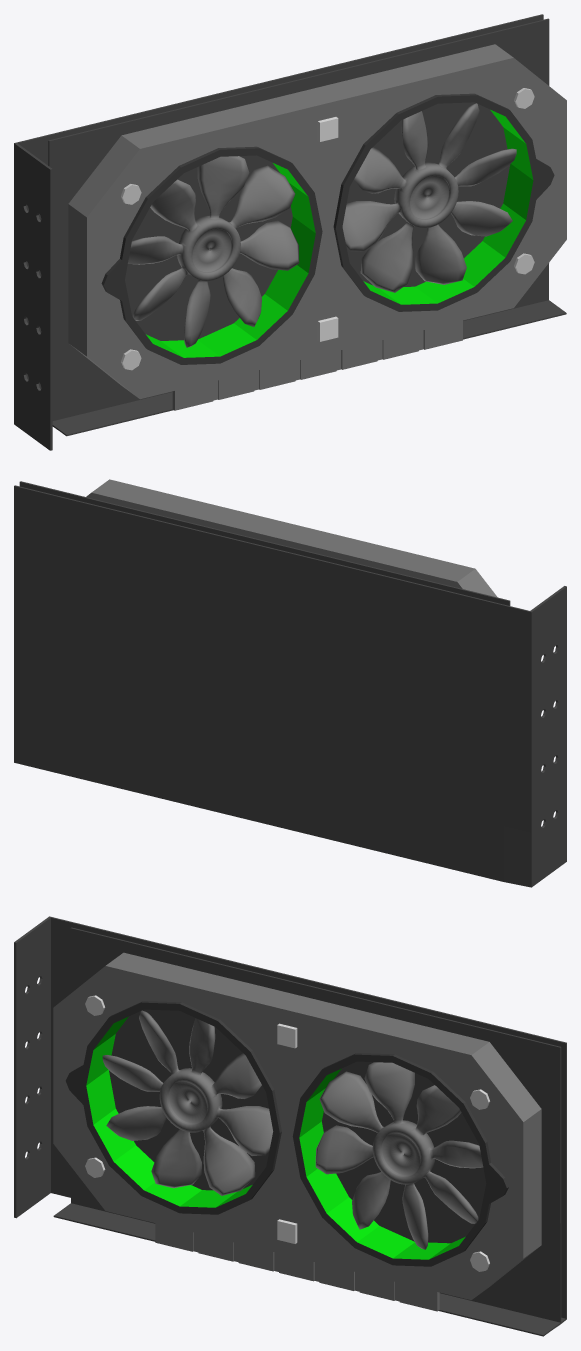
Rendered from graphic_card_fans.fbx.
The picture shows the model from 3 angles, top to bottom: view 1: azimuth 30°, elevation 25°; view 2: azimuth 150°, elevation 25°; view 3: azimuth 330°, elevation 25°; orthographic projection. The views are drawn at different scales.
Parts seen in each view (by area): view 1: gpu base, plate, rings, fan1, fans2, gpu, pins round, pins square; view 2: plate, gpu base; view 3: plate, gpu base, rings, fans2, fan1, gpu, pins round, pins square.
Boxes of the visible parts, x1,y1,x2,y2 form: gpu base: [68, 44, 566, 399]; plate: [14, 14, 566, 450]; rings: [101, 93, 554, 364]; fan1: [342, 103, 516, 292]; fans2: [128, 156, 299, 347]; gpu: [172, 320, 462, 410]; pins round: [121, 88, 534, 370]; pins square: [317, 117, 338, 341]; plate: [14, 481, 566, 887]; gpu base: [86, 479, 497, 597]; plate: [14, 916, 566, 1336]; gpu base: [53, 952, 541, 1300]; rings: [65, 1001, 508, 1266]; fans2: [102, 1010, 273, 1195]; fan1: [315, 1062, 483, 1249]; gpu: [155, 1223, 439, 1311]; pins round: [85, 995, 489, 1271]; pins square: [277, 1023, 297, 1243].
Bounding box in the file's own units: 305 × 156 × 36.94.
